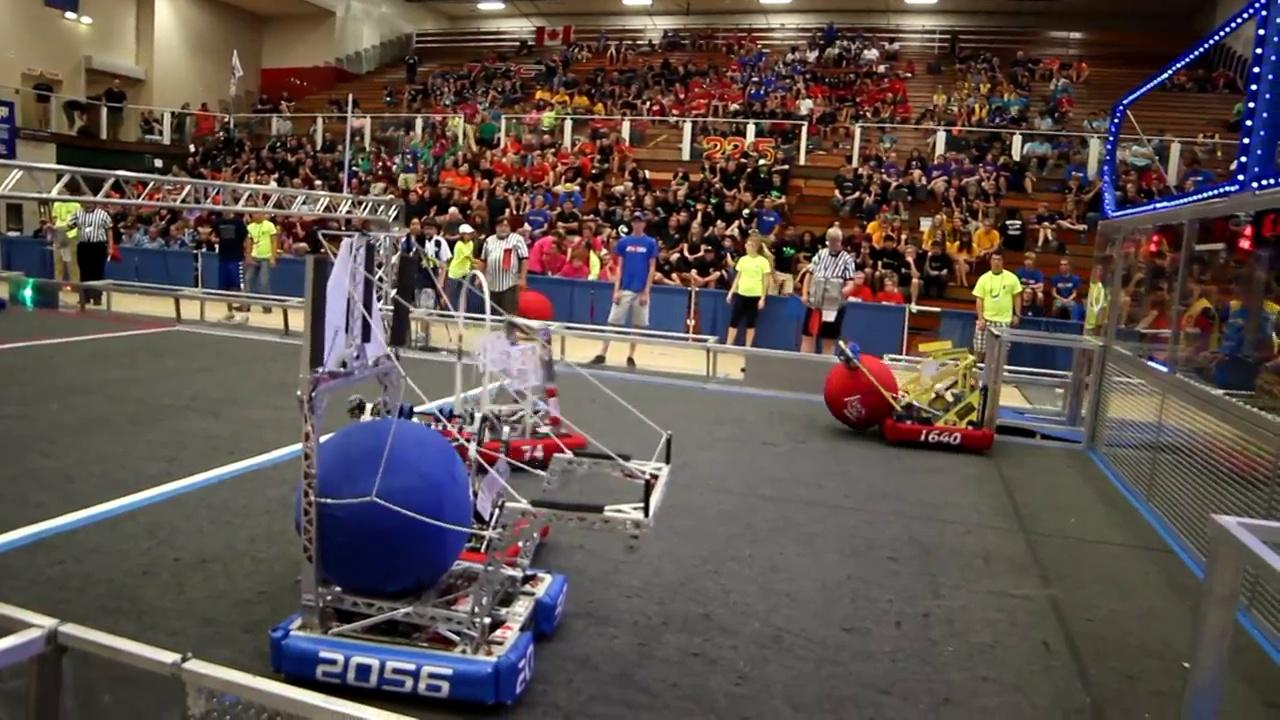robot: (266, 224, 575, 719), (821, 313, 998, 459), (449, 339, 585, 474)
